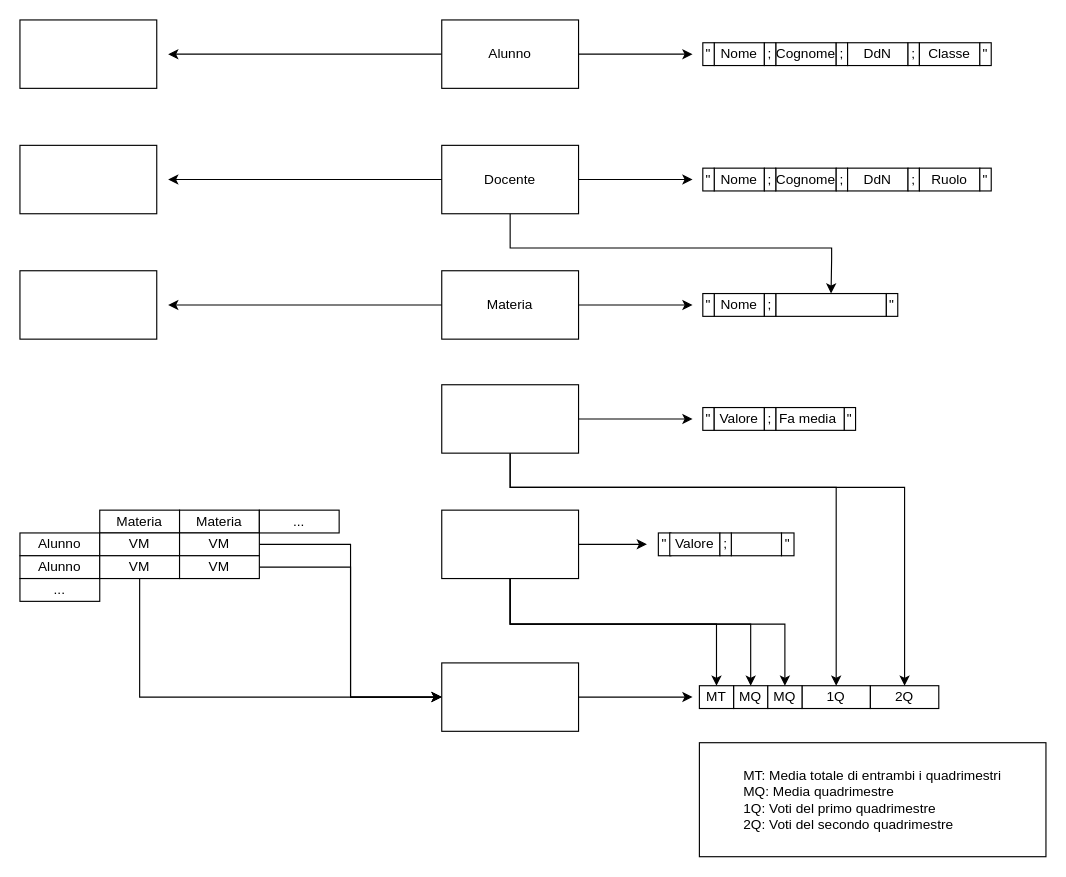
This 1066x877 diagram has some shape labels left out. The shapes that lost their labels are listed below. From the top down, each one's centre as x and y in pixels, then its label:
At (x=88, y=53): "Alunni[String]".
At (x=88, y=179): "Docenti[String]".
At (x=88, y=304): "Materie[String]".
At (x=830, y=304): "Indice Docente".
At (x=510, y=418): "Voto".
At (x=510, y=544): "Media".
At (x=510, y=696): "Voti Materia".
